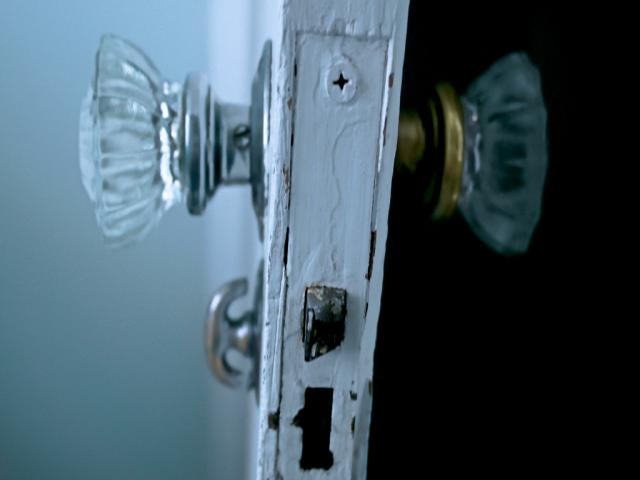Door-handle: (78, 32, 272, 251), (393, 47, 548, 262)
